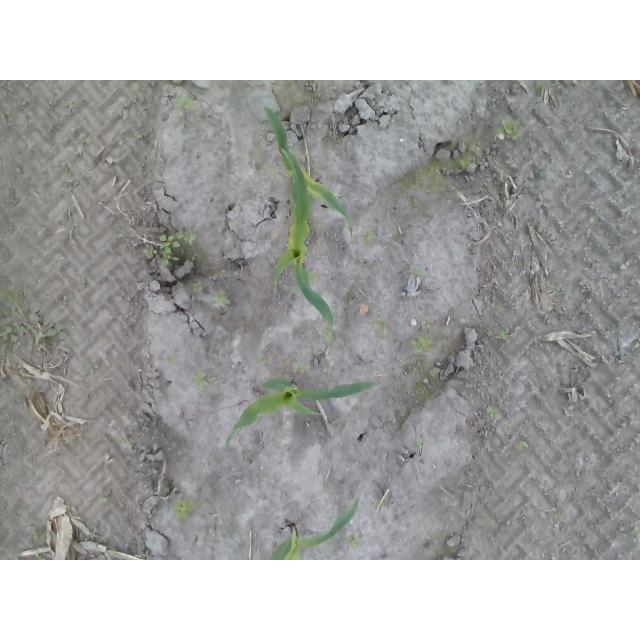Maize: (261, 101, 356, 240), (272, 145, 335, 327), (224, 376, 376, 445), (271, 496, 364, 560)
Weeds: (141, 229, 198, 266), (0, 285, 24, 348), (31, 325, 65, 342), (496, 119, 521, 142), (408, 332, 433, 353), (190, 371, 210, 394), (373, 311, 389, 338), (172, 499, 192, 520), (213, 287, 232, 307), (415, 166, 442, 180), (77, 130, 99, 147), (23, 303, 41, 322), (175, 94, 192, 114), (272, 163, 293, 178), (494, 159, 522, 170), (162, 352, 179, 369), (361, 228, 377, 245), (409, 263, 425, 279), (493, 328, 512, 341), (314, 216, 328, 233), (347, 536, 362, 551), (120, 433, 134, 449), (85, 361, 99, 376), (323, 325, 334, 344), (294, 362, 311, 374), (191, 282, 205, 295), (457, 160, 471, 173), (29, 525, 39, 543), (62, 434, 81, 443), (632, 525, 640, 543), (418, 320, 430, 331), (415, 439, 426, 450), (535, 167, 546, 178), (284, 96, 290, 116), (487, 407, 498, 417), (308, 271, 317, 282), (553, 288, 563, 297), (408, 193, 417, 203), (519, 440, 529, 449), (415, 386, 425, 394), (256, 120, 263, 129)
